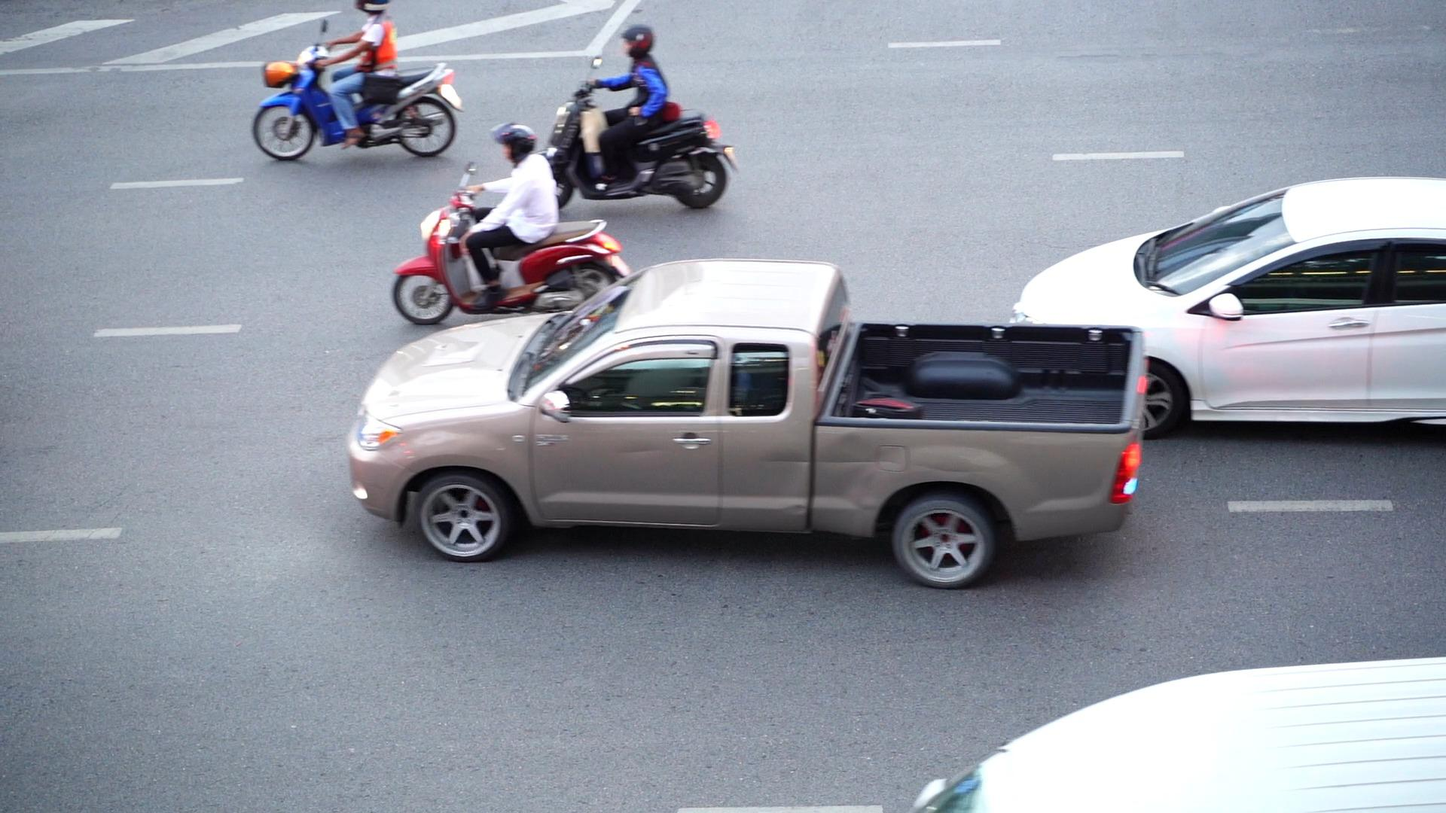driver: (393, 121, 631, 325), (530, 24, 738, 210), (252, 0, 464, 161)
helmet: (490, 121, 537, 163), (620, 24, 653, 58)
